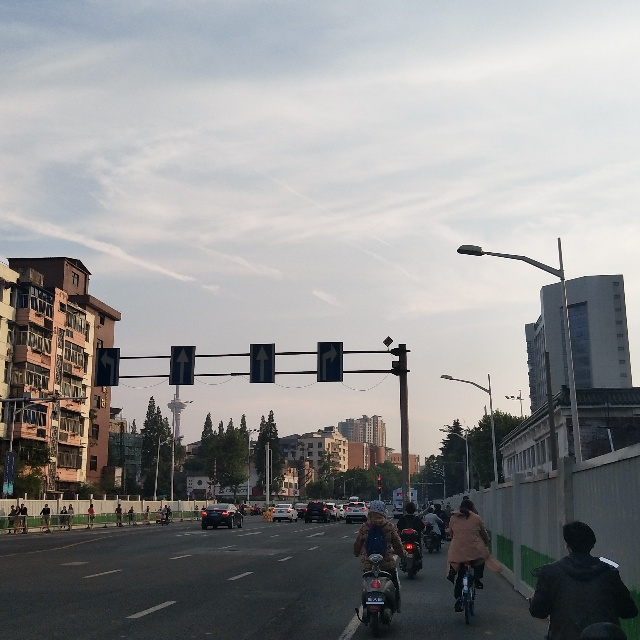left: (95, 349, 119, 386)
right: (317, 342, 341, 380)
straight: (169, 342, 195, 386), (255, 343, 274, 383)
